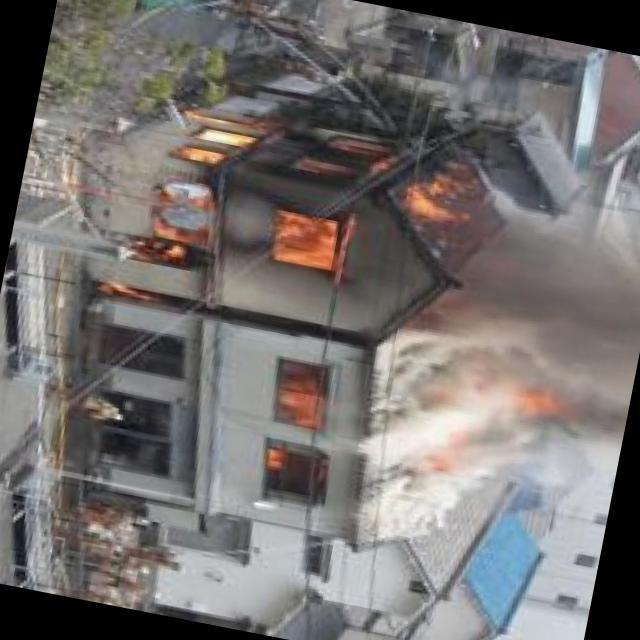Fire: (135, 75, 519, 326), (415, 370, 557, 514), (248, 348, 348, 513)
